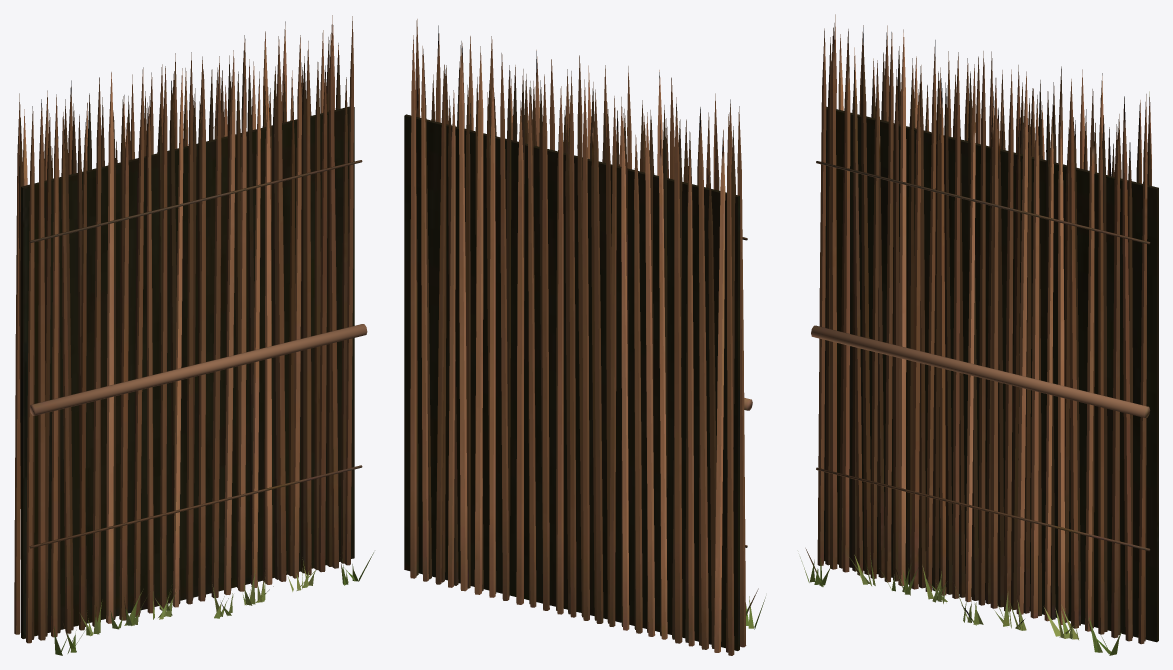
Rendered from fence_reed_hd.glb.
3 renders of one model, left to right at view 1: azimuth 30°, elevation 25°; view 2: azimuth 150°, elevation 25°; view 3: azimuth 330°, elevation 25°, orthographic.
Visible parts, largest first — view 1: fence_reed; view 2: fence_reed; view 3: fence_reed.
Boxes of the visible parts, x1=… form: fence_reed: x1=14, y1=15, x2=373, y2=655; fence_reed: x1=404, y1=19, x2=765, y2=655; fence_reed: x1=800, y1=14, x2=1158, y2=655.
Size of the model in its own units: 1 by 1.6 by 0.2079.
Materials: 1 (1 with a texture image).
